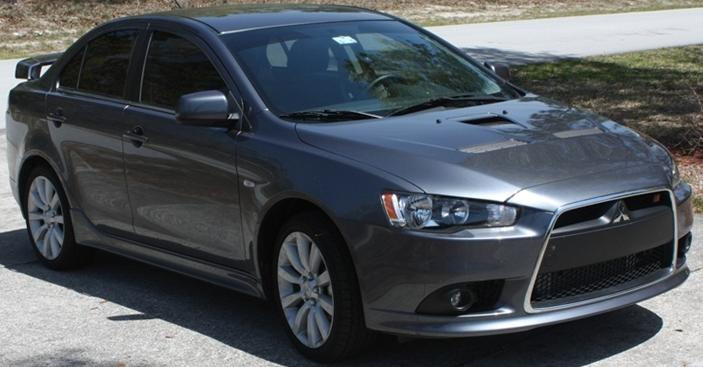front_view: (373, 130, 703, 343)
headlight: (375, 172, 564, 256)
side_glass: (57, 27, 252, 122)
